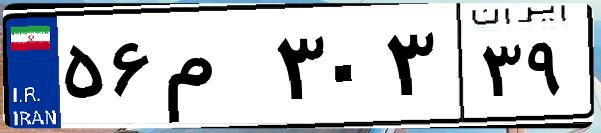0: (330, 28, 385, 110)
3: (270, 28, 330, 110), (385, 28, 445, 110), (475, 38, 525, 113)
5: (57, 26, 110, 100)
6: (110, 28, 158, 98)
9: (525, 38, 570, 115)
م: (158, 20, 270, 120)
